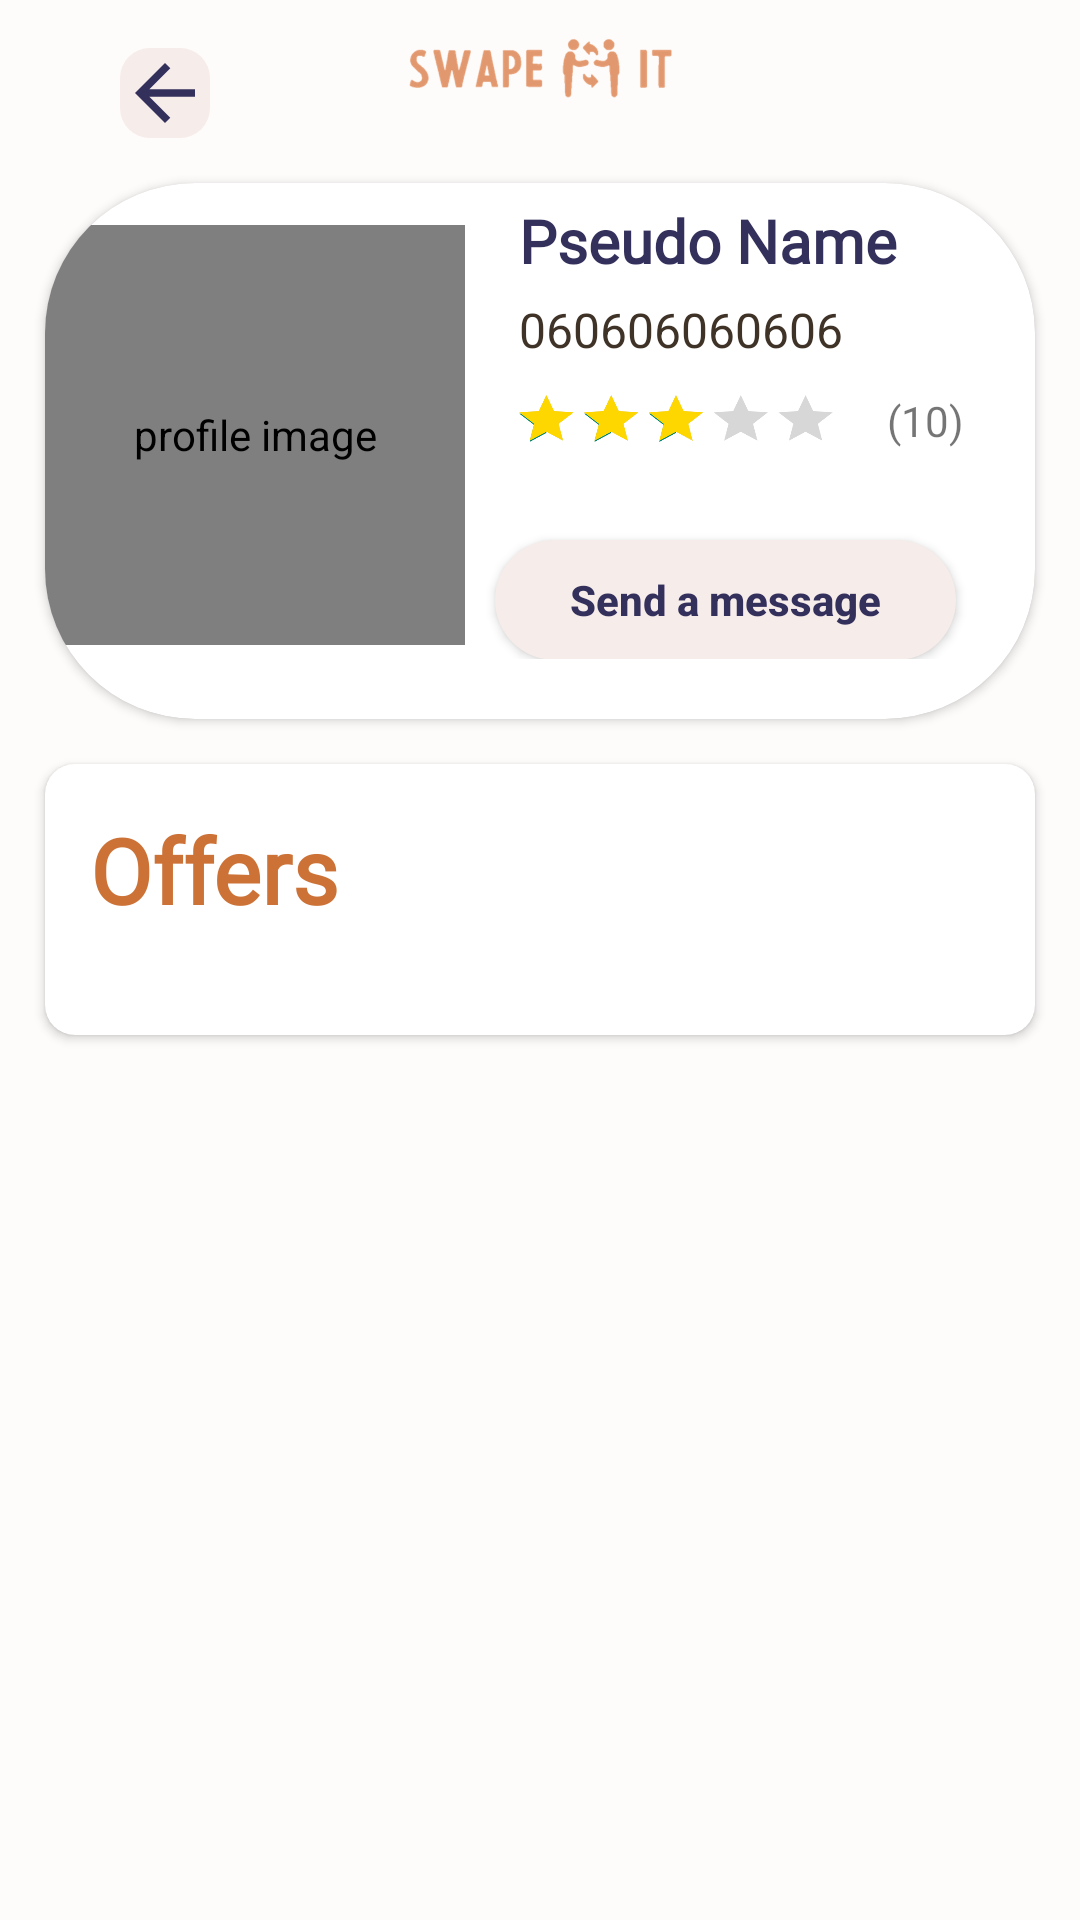

Named icons in this screenshot (1080x1920) and their centers, [x,y]:
previous: [165,93]
